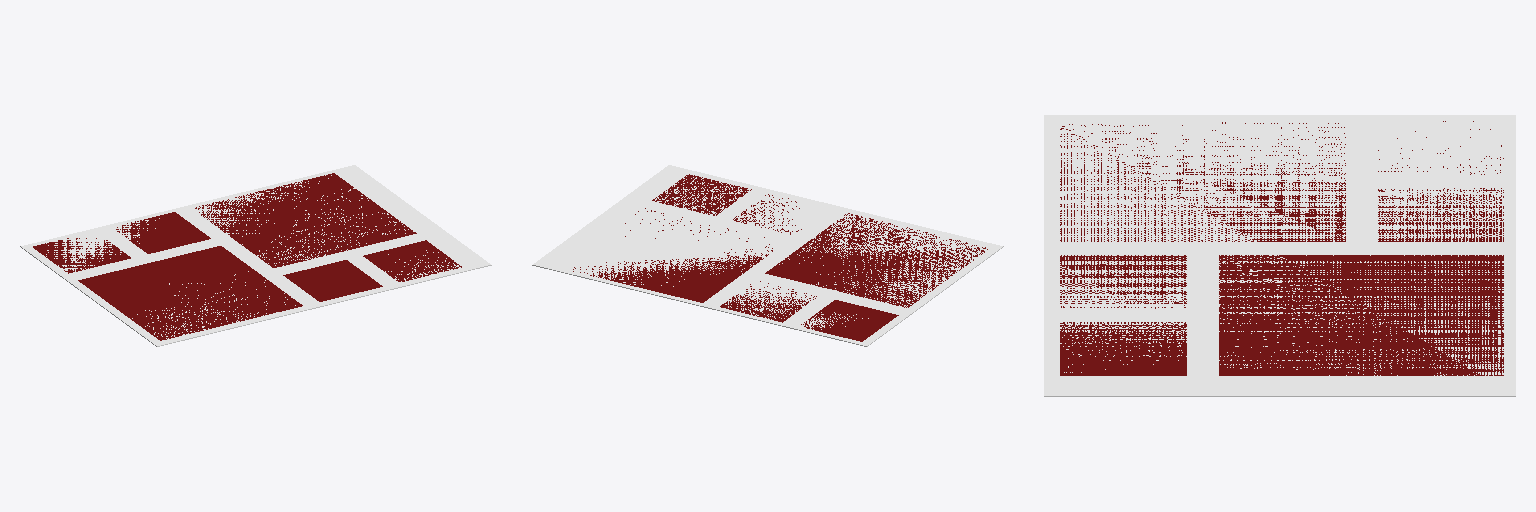
The robot description file, URDF, robot "calibration_1a":
<?xml version="1.0" encoding="utf-8"?>
  
<robot name="calibration_1a">

  <!-- upper left corner of grid  -->
  <link name="calibration_1a_base_link">
    <visual>  
     <origin xyz ="0.21 0.1485 0" rpy ="0 0 0"/>
     <geometry>
       <box size="0.42 0.297 1e-3" />
     </geometry>
     <material name="TransparentWhite">
       <color rgba="1 1 1 0.2"/>
     </material>
   </visual>
  </link>

  <!-- aruco 901 -->
  <link name="aruco_901">
    <visual>  
     <geometry>
       <box size="0.18 0.18 0.001" />
     </geometry>
     <material name="DarkRed">
       <color rgba="0.5 0.1 0.1 0.8"/>
     </material>
   </visual>
  </link>

  <!-- aruco 902   -->
  <link name="aruco_902">
    <visual>  
     <geometry>
       <box size="0.08 0.08 0.001" />
     </geometry>
     <material name="DarkRed">
       <color rgba="0.5 0.1 0.1 0.8"/>
     </material>
   </visual>
  </link>

  <!-- aruco 903   -->
  <link name="aruco_903">
    <visual>  
     <geometry>
       <box size="0.08 0.08 0.001" />
     </geometry>
     <material name="DarkRed">
       <color rgba="0.5 0.1 0.1 0.8"/>
     </material>
   </visual>
  </link>

  <!-- aruco 904   -->
  <link name="aruco_904">
    <visual>  
     <geometry>
       <box size="0.08 0.08 0.001" />
     </geometry>
     <material name="DarkRed">
       <color rgba="0.5 0.1 0.1 0.8"/>
     </material>
   </visual>
  </link>

  <!-- aruco 905   -->
  <link name="aruco_905">
    <visual>  
     <geometry>
       <box size="0.08 0.08 0.001" />
     </geometry>
     <material name="DarkRed">
       <color rgba="0.5 0.1 0.1 0.8"/>
     </material>
   </visual>
  </link>

  <!-- aruco 906   -->
  <link name="aruco_906">
    <visual>  
     <geometry>
       <box size="0.18 0.18 0.001" />
     </geometry>
     <material name="DarkRed">
       <color rgba="0.5 0.1 0.1 0.8"/>
     </material>
   </visual>
  </link>

  <!-- position aruco markers -->
  <joint name="base_link-aruco_901" type="fixed">
    <origin rpy="0 0 0" xyz="0.1 0.1 0"/>
    <parent link="calibration_1a_base_link"/>
    <child link="aruco_901"/>
  </joint>

  <joint name="base_link-aruco_902" type="fixed">
    <origin rpy="0 0 0" xyz="0.05 0.25 0"/>
    <parent link="calibration_1a_base_link"/>
    <child link="aruco_902"/>
  </joint>

  <joint name="base_link-aruco_903" type="fixed">
    <origin rpy="0 0 0" xyz="0.15 0.25 0"/>
    <parent link="calibration_1a_base_link"/>
    <child link="aruco_903"/>
  </joint>

  <joint name="base_link-aruco_904" type="fixed">
    <origin rpy="0 0 0" xyz="0.25 0.05 0"/>
    <parent link="calibration_1a_base_link"/>
    <child link="aruco_904"/>
  </joint>

  <joint name="base_link-aruco_905" type="fixed">
    <origin rpy="0 0 0" xyz="0.35 0.05 0"/>
    <parent link="calibration_1a_base_link"/>
    <child link="aruco_905"/>
  </joint>

  <joint name="base_link-aruco_906" type="fixed">
    <origin rpy="0 0 0" xyz="0.3 0.2 0"/>
    <parent link="calibration_1a_base_link"/>
    <child link="aruco_906"/>
  </joint>

</robot>

--- What the picture shows (computed from the rendered views, not written in the file) ---
3 views of the same robot in one strip: view 1: azimuth 30°, elevation 25°; view 2: azimuth 150°, elevation 25°; view 3: azimuth 270°, elevation 25° (orthographic).
Robot: calibration_1a — 7 links, 6 joints (6 fixed); root link calibration_1a_base_link; default pose: every joint at zero.
Visible links, largest first — view 1: calibration_1a_base_link, aruco_901, aruco_906, aruco_904, aruco_905, aruco_903, aruco_902; view 2: calibration_1a_base_link, aruco_901, aruco_906, aruco_902, aruco_905, aruco_903; view 3: calibration_1a_base_link, aruco_906, aruco_901, aruco_905, aruco_904, aruco_903.
Link boxes in pixels (left/top/right/bottom): calibration_1a_base_link: left=20, top=165, right=491, bottom=346; aruco_901: left=78, top=246, right=302, bottom=340; aruco_906: left=195, top=173, right=416, bottom=267; aruco_904: left=283, top=260, right=382, bottom=301; aruco_905: left=363, top=240, right=461, bottom=281; aruco_903: left=116, top=212, right=210, bottom=253; aruco_902: left=33, top=238, right=130, bottom=273; calibration_1a_base_link: left=532, top=165, right=1003, bottom=346; aruco_901: left=765, top=213, right=987, bottom=307; aruco_906: left=573, top=208, right=772, bottom=302; aruco_902: left=801, top=300, right=898, bottom=341; aruco_905: left=652, top=174, right=751, bottom=215; aruco_903: left=720, top=281, right=816, bottom=322; calibration_1a_base_link: left=1044, top=115, right=1515, bottom=396; aruco_906: left=1219, top=255, right=1503, bottom=375; aruco_901: left=1060, top=122, right=1345, bottom=241; aruco_905: left=1060, top=322, right=1186, bottom=375; aruco_904: left=1060, top=255, right=1186, bottom=308; aruco_903: left=1378, top=188, right=1503, bottom=241.
Size in the robot's own frame: 0.42 by 0.297 by 0.001 metres.
Geometry: primitives only (box / cylinder / sphere), no mesh files.
